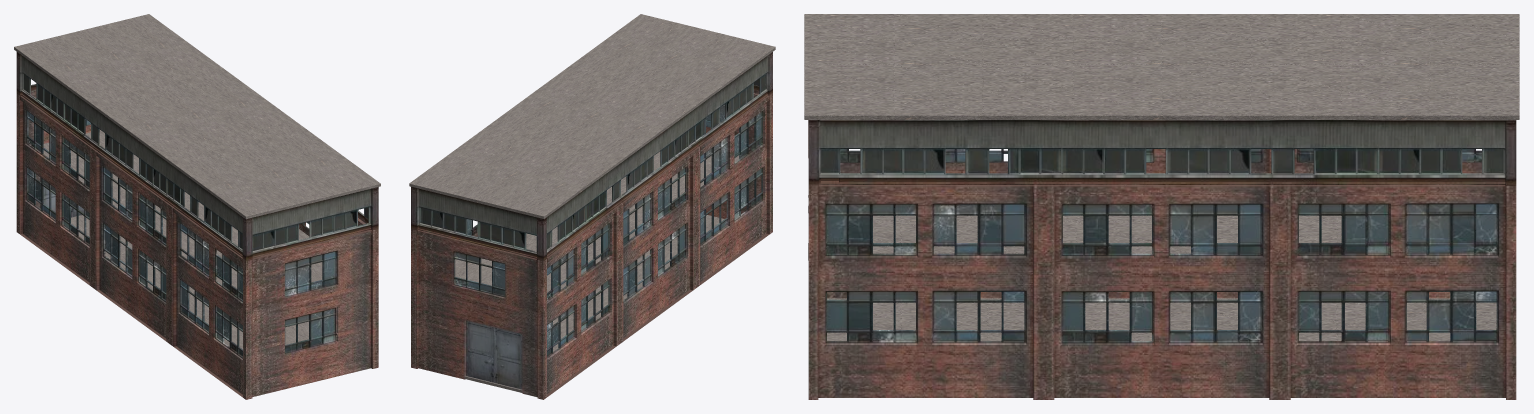
Rendered from sf-warehouse.glb.
The picture shows the model from 3 angles, left to right: view 1: azimuth 30°, elevation 25°; view 2: azimuth 150°, elevation 25°; view 3: azimuth 270°, elevation 25°; orthographic projection. The views are drawn at different scales.
Parts seen in each view (by area): view 1: building _building _0, building floor, building top, building windows; view 2: building _building _0 (×2), building floor, building top, building windows; view 3: building _building _0 (×2), building floor, building windows, building top.
Part boxes in pixels (left/top/right/bottom): building _building _0: left=16, top=89, right=378, bottom=399; building floor: left=14, top=14, right=380, bottom=348; building top: left=16, top=52, right=378, bottom=261; building windows: left=24, top=74, right=368, bottom=356; building _building _0 (×2): left=411, top=90, right=772, bottom=399; building floor: left=409, top=14, right=775, bottom=392; building top: left=411, top=52, right=772, bottom=261; building windows: left=420, top=74, right=765, bottom=356; building _building _0 (×2): left=808, top=120, right=1516, bottom=399; building floor: left=804, top=14, right=1519, bottom=340; building windows: left=820, top=149, right=1503, bottom=340; building top: left=808, top=120, right=1516, bottom=186.
Bounding box in the file's own units: 1161 × 1517 × 3451.
Materials: 3 (3 with a texture image).
